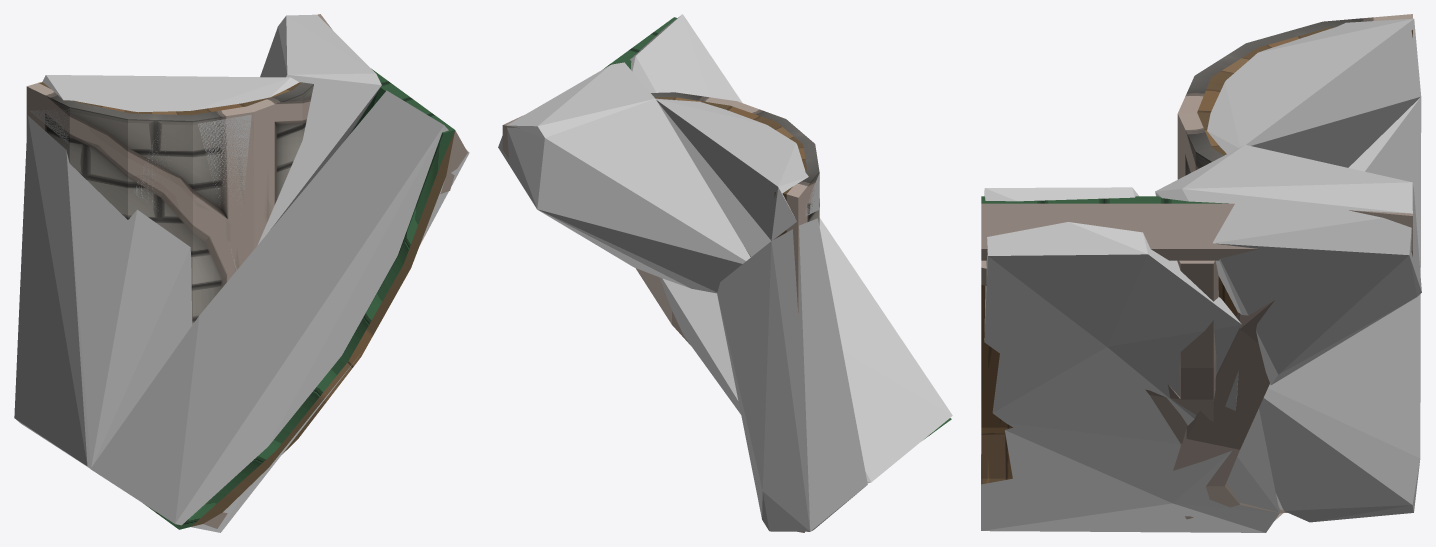
File: SM_Bld_Roof_Concave_Tower_01.fbx
The picture shows the model from 3 angles, left to right: view 1: azimuth 30°, elevation 25°; view 2: azimuth 150°, elevation 25°; view 3: azimuth 270°, elevation 25°; orthographic projection. The views are drawn at different scales.
Parts seen in each view (by area): view 1: SM_Bld_Roof_Concave_Tower_01_ConvexHulls, SM_Bld_Roof_Concave_Tower_01; view 2: SM_Bld_Roof_Concave_Tower_01_ConvexHulls, SM_Bld_Roof_Concave_Tower_01; view 3: SM_Bld_Roof_Concave_Tower_01_ConvexHulls, SM_Bld_Roof_Concave_Tower_01.
Part boxes in pixels (x1,y1,x2,y2): SM_Bld_Roof_Concave_Tower_01_ConvexHulls: (14, 14, 469, 532); SM_Bld_Roof_Concave_Tower_01: (26, 14, 467, 529); SM_Bld_Roof_Concave_Tower_01_ConvexHulls: (498, 14, 952, 531); SM_Bld_Roof_Concave_Tower_01: (502, 17, 951, 532); SM_Bld_Roof_Concave_Tower_01_ConvexHulls: (981, 18, 1421, 532); SM_Bld_Roof_Concave_Tower_01: (981, 14, 1412, 520).
Size of the model in its own units: 295 by 255 by 321.
5 materials, 4 textured.
